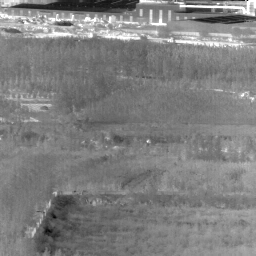aircraft: (78, 40, 80, 42)
